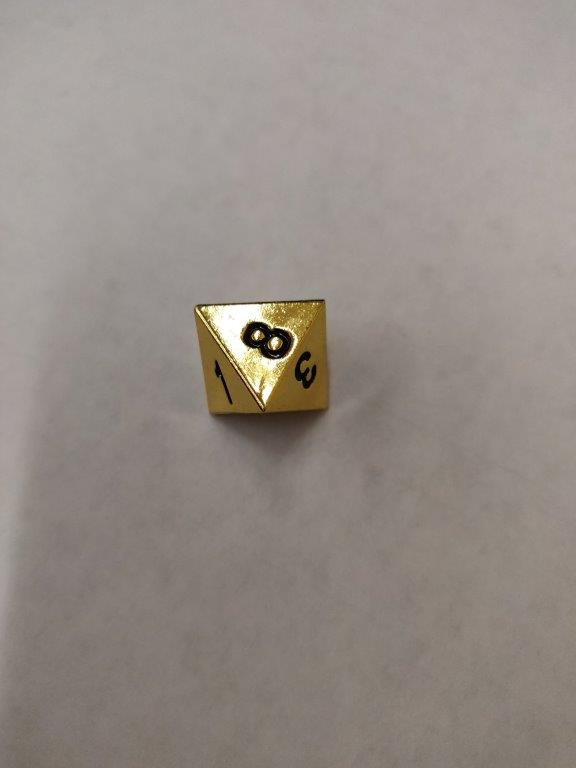d8-8: (195, 299, 328, 418)
